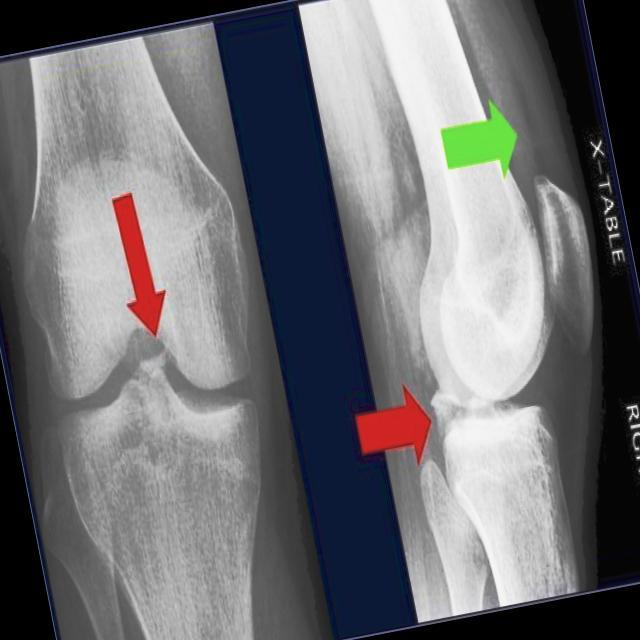Avlusion Fracture: (426, 384, 459, 424), (147, 340, 176, 372)
